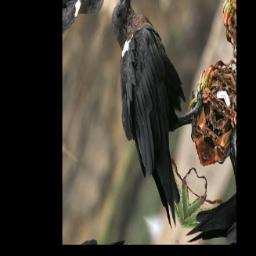Crow: (69, 0, 228, 232)
